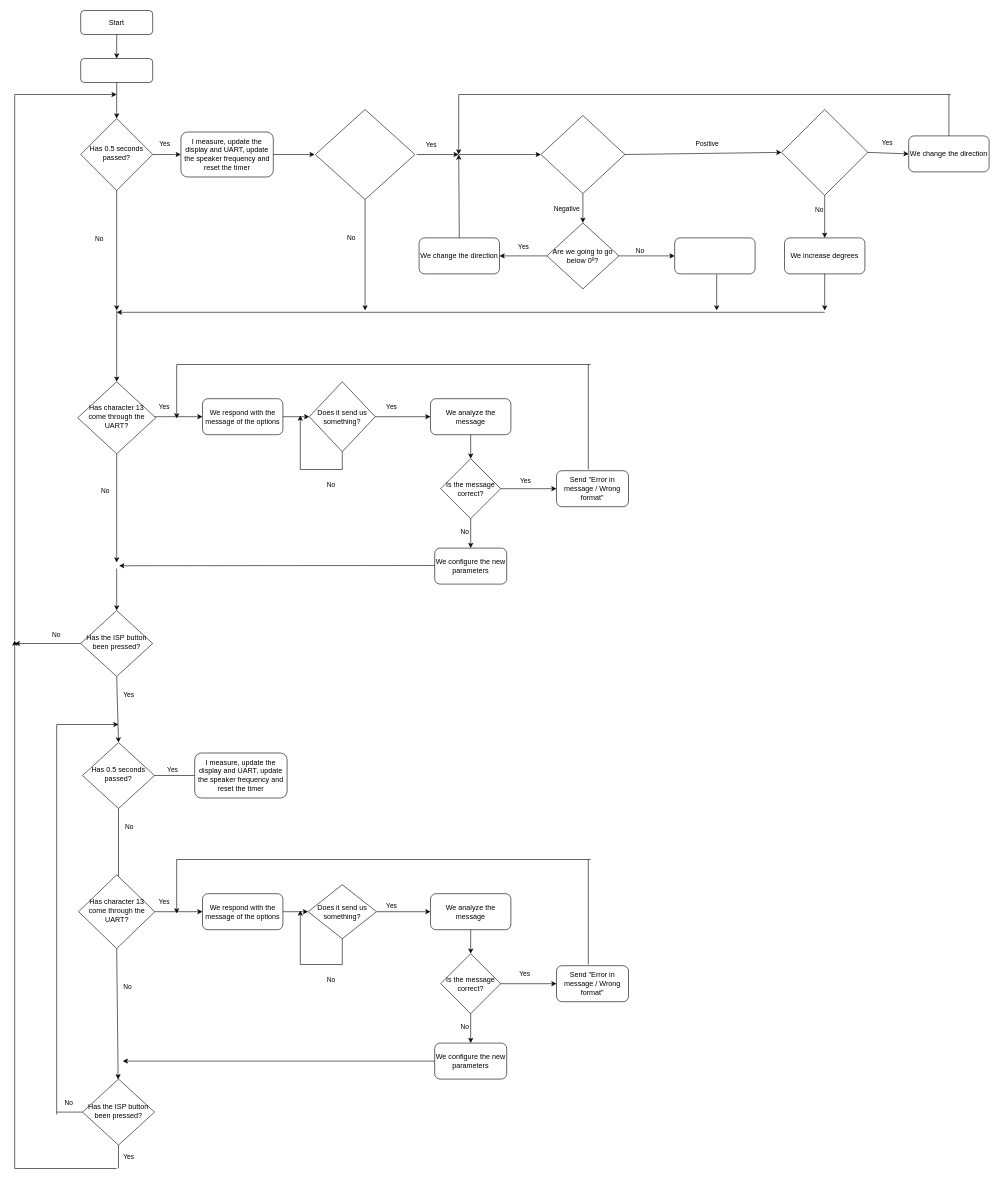
Image size: 1000x1184. Some labels were removed from this diagram. Here are the shapes that lost their labels. From the top down, the centre of each, then its label:
At pixel 116 70: "Configuration".
At pixel 365 154: "Has enough time passed in order to move?".
At pixel 582 154: "Are we moving in a positive or negative direction".
At pixel 824 152: "Are we going to exceed 180º?".
At pixel 714 255: "We decrease degrees".
